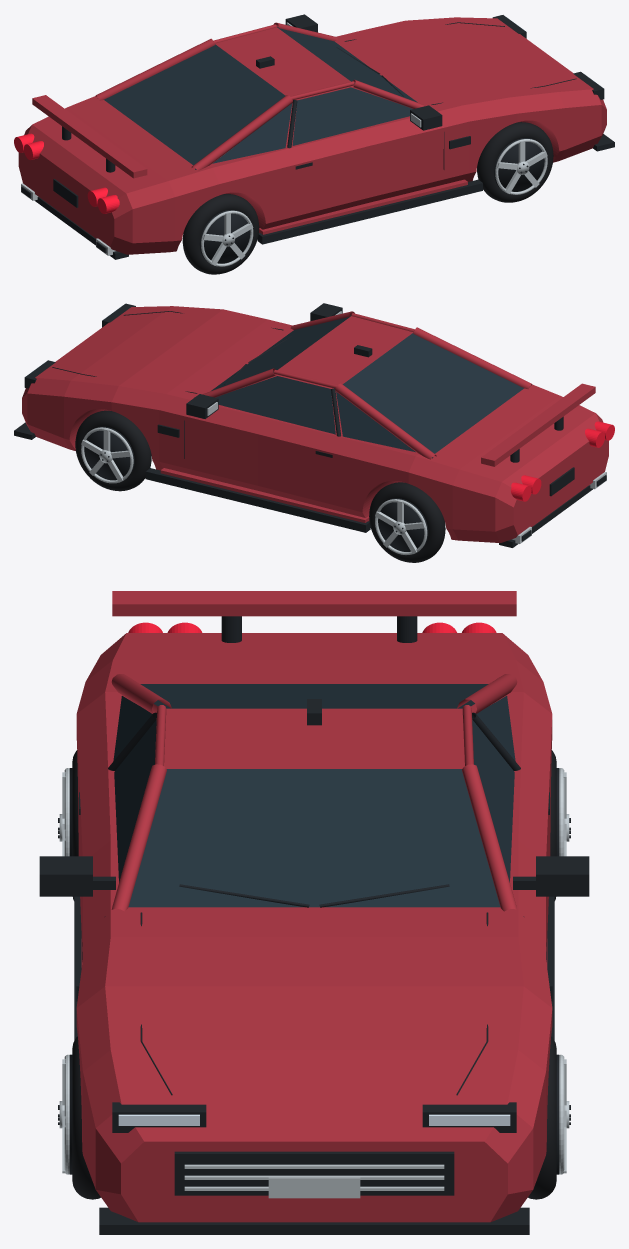
Rendered from riv3.glb.
The picture shows the model from 3 angles, top to bottom: view 1: azimuth 30°, elevation 25°; view 2: azimuth 150°, elevation 25°; view 3: azimuth 270°, elevation 25°; orthographic projection. The views are drawn at different scales.
Parts seen in each view (by area): view 1: 超級跑車; view 2: 超級跑車; view 3: 超級跑車.
Part boxes in pixels (box(x1,y1,x2,y2)): 超級跑車: box(14, 14, 614, 274); 超級跑車: box(14, 303, 614, 562); 超級跑車: box(39, 591, 589, 1234).
Size of the model in its own units: 4.79 by 1.35 by 2.27.
